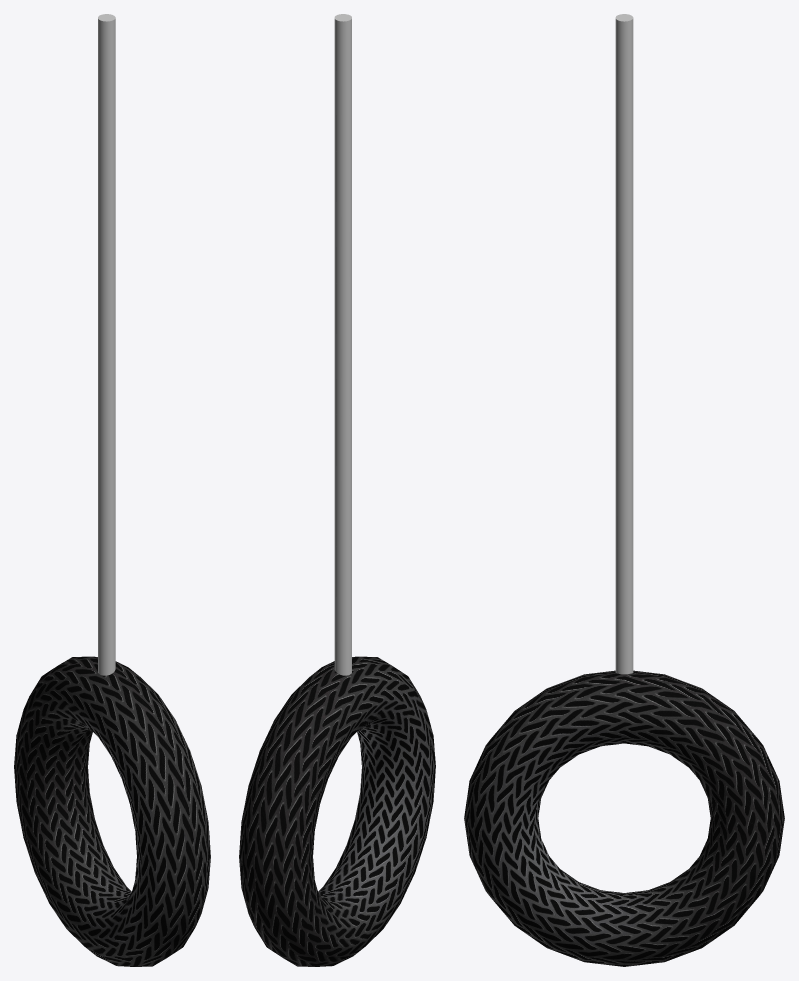
The model's file is swing.fbx.
3 renders of one model, left to right at view 1: azimuth 30°, elevation 25°; view 2: azimuth 150°, elevation 25°; view 3: azimuth 270°, elevation 25°, orthographic.
Parts seen in each view (by area): view 1: Cylinder001; view 2: Cylinder001; view 3: Cylinder001.
Boxes of the visible parts, x1=… form: Cylinder001: x1=14, y1=14, x2=210, y2=966; Cylinder001: x1=239, y1=14, x2=435, y2=966; Cylinder001: x1=464, y1=14, x2=784, y2=966.
Size of the model in its own units: 1.66 by 23.29 by 7.18.
